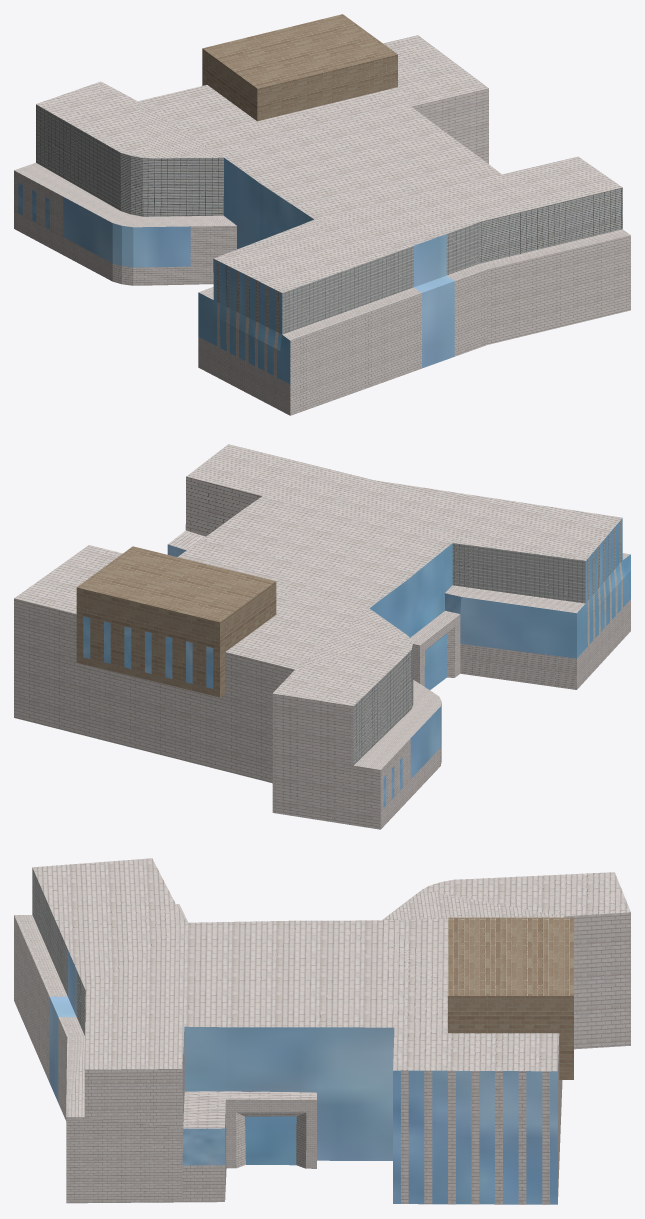
Rendered from BusinessEngineeringComplexTextured.gltf.
3 renders of one model, top to bottom at view 1: azimuth 30°, elevation 25°; view 2: azimuth 150°, elevation 25°; view 3: azimuth 270°, elevation 25°, orthographic. The views are drawn at different scales.
Visible parts, largest first — view 1: Plane; view 2: Plane; view 3: Plane.
Part boxes in pixels (x1=…): Plane: x1=14, y1=14, x2=630, y2=415; Plane: x1=14, y1=444, x2=630, y2=829; Plane: x1=14, y1=858, x2=630, y2=1204.
Bounding box in the file's own units: 78.92 × 29.27 × 95.78.
Materials: 4 (4 with a texture image).
